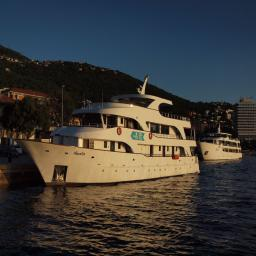cruises: (12, 74, 203, 191), (200, 126, 246, 165)
